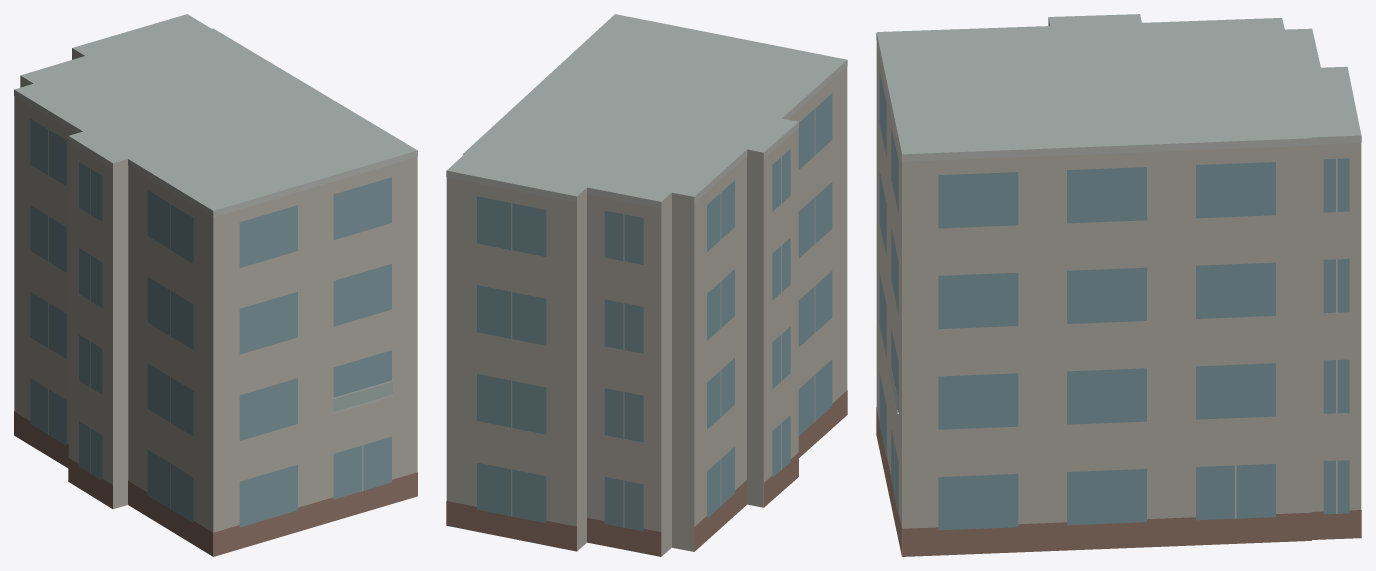
File: survey-upis-32663630.glb
3 renders of one model, left to right at view 1: azimuth 30°, elevation 25°; view 2: azimuth 150°, elevation 25°; view 3: azimuth 270°, elevation 25°, orthographic. The views are drawn at different scales.
Parts seen in each view (by area): view 1: survey-upis-32663630.tmp; view 2: survey-upis-32663630.tmp; view 3: survey-upis-32663630.tmp.
Boxes of the visible parts, bbox=[...] form: survey-upis-32663630.tmp: bbox=[14, 14, 417, 556]; survey-upis-32663630.tmp: bbox=[446, 14, 847, 556]; survey-upis-32663630.tmp: bbox=[876, 14, 1361, 556].
Bounding box in the file's own units: 9.97 × 13.33 × 14.57.
